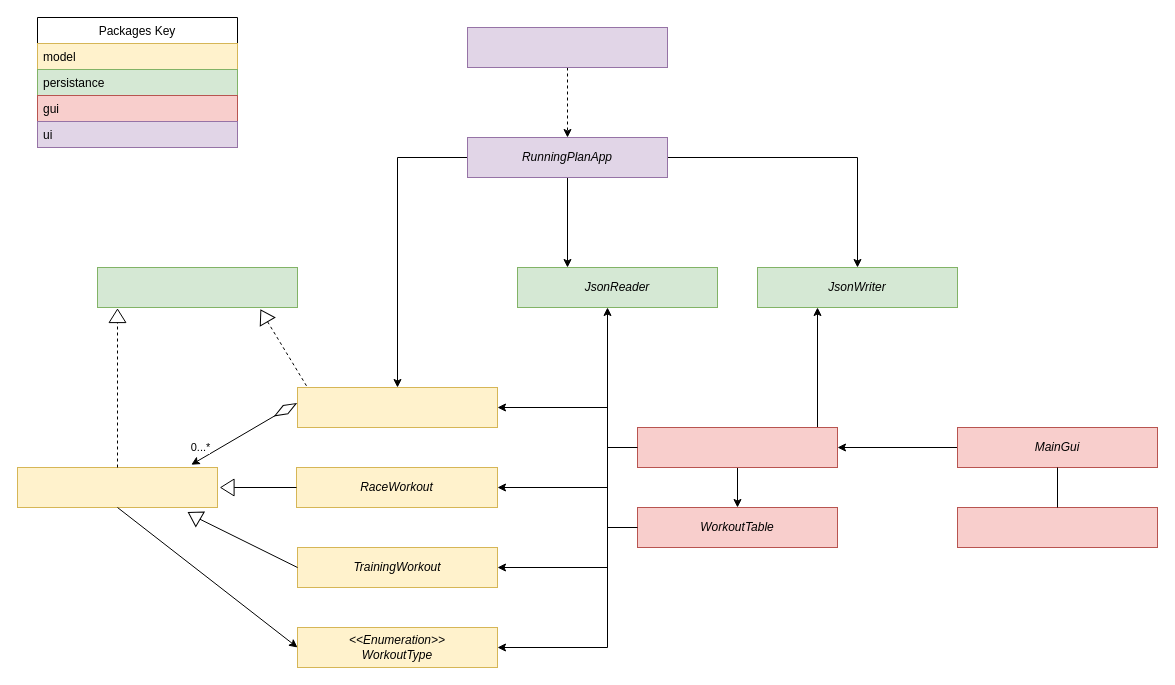
The diagram is 1175 pixels wide and 685 high, and some of its shapes have lost their labels. The shapes that lost their labels are listed below. From the top down, each one's centre as x and y in pixels, then its label:
At point (567, 47): "Main".
At point (197, 287): "<<Interface>> Writable".
At point (397, 407): "WorkoutCalendar".
At point (737, 447): "RunPlanGui".
At point (117, 487): "<<Abstract>> Workout".
At point (1057, 527): "WelcomePanel".
